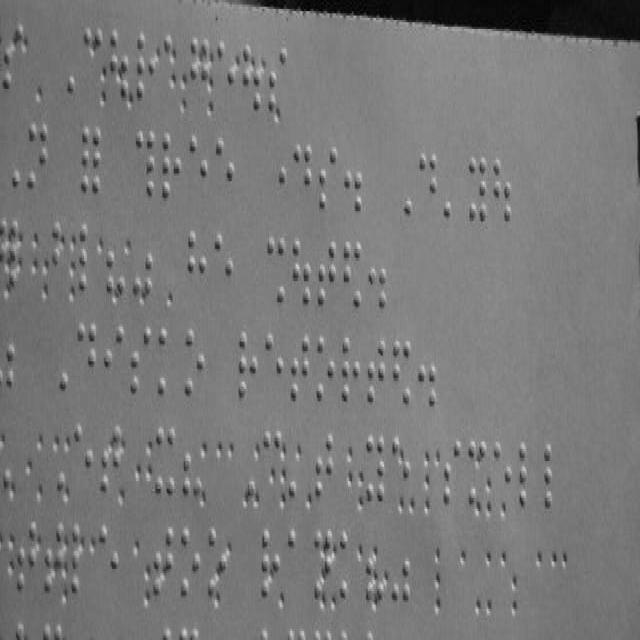braiile: (286, 526, 308, 606), (98, 522, 120, 598), (74, 423, 95, 501), (130, 324, 152, 396), (154, 426, 176, 498), (179, 526, 201, 598), (160, 129, 182, 200), (212, 231, 234, 302), (216, 41, 237, 115), (542, 441, 564, 510), (183, 327, 204, 398), (188, 228, 208, 302), (338, 530, 358, 604), (27, 121, 48, 190), (78, 222, 98, 294), (135, 29, 155, 100), (77, 320, 97, 391), (158, 327, 178, 398), (238, 329, 258, 400), (366, 336, 386, 406), (188, 132, 208, 201), (215, 132, 235, 201), (292, 141, 312, 210), (467, 154, 487, 223), (104, 321, 124, 390), (314, 432, 334, 501), (518, 441, 538, 510), (318, 144, 338, 212), (316, 333, 336, 400), (18, 518, 36, 592), (342, 334, 361, 404), (290, 336, 310, 402), (318, 239, 337, 308), (366, 434, 384, 504), (265, 332, 283, 401), (443, 441, 461, 506), (419, 150, 437, 214)
